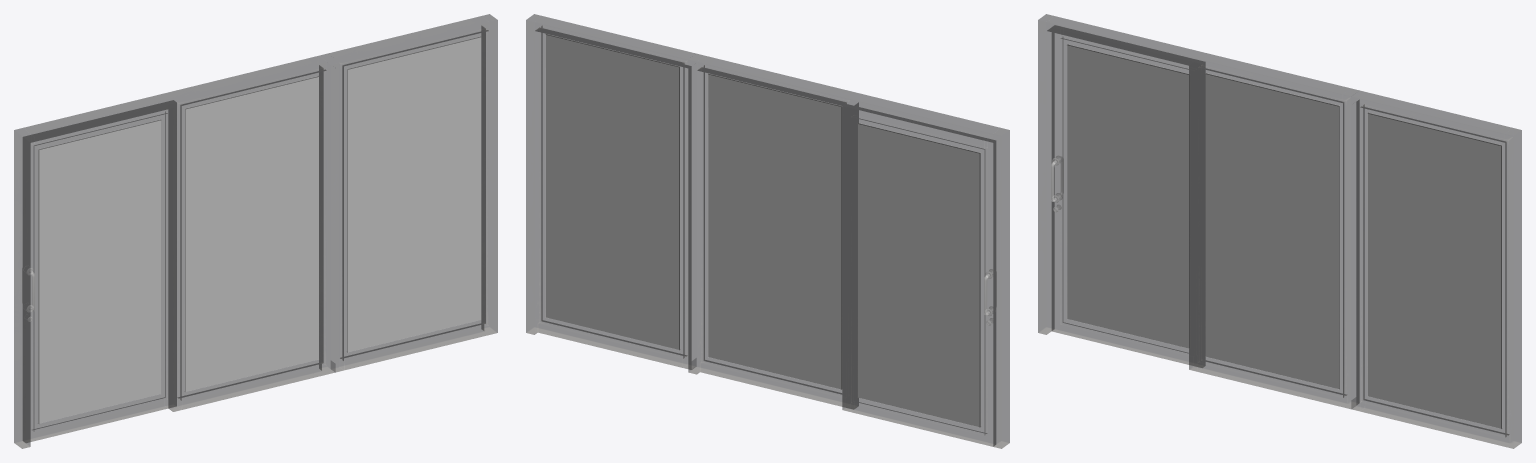
Rendered from Window_3_Panel.glb.
3 views of the same model, side by side, from view 1: azimuth 30°, elevation 25°; view 2: azimuth 150°, elevation 25°; view 3: azimuth 330°, elevation 25° (orthographic).
Parts seen in each view (by area): view 1: Window with sliding door 220x10x210.001, Window with sliding door 220x10x210; view 2: Window with sliding door 220x10x210.001, Window with sliding door 220x10x210; view 3: Window with sliding door 220x10x210.001, Window with sliding door 220x10x210.
Boxes of the visible parts, left/top/right/bottom form: Window with sliding door 220x10x210.001: left=38, top=36, right=481, bottom=423; Window with sliding door 220x10x210: left=14, top=14, right=497, bottom=448; Window with sliding door 220x10x210.001: left=546, top=34, right=980, bottom=427; Window with sliding door 220x10x210: left=526, top=14, right=1009, bottom=448; Window with sliding door 220x10x210.001: left=1067, top=44, right=1501, bottom=428; Window with sliding door 220x10x210: left=1038, top=14, right=1521, bottom=448.
Bounding box in the file's own units: 3.34 × 2.1 × 0.15.
Materials: 2 (1 with a texture image).
